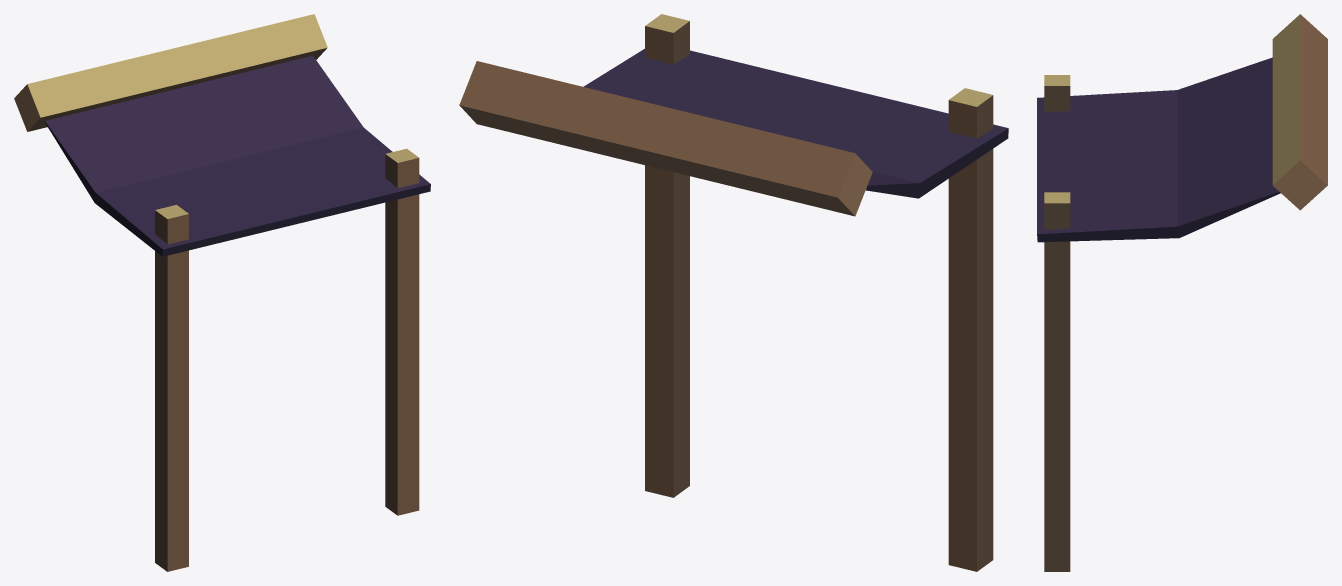
Rendered from TB_D_Bd_Canopy_Leg_F.FBX.
3 renders of one model, left to right at view 1: azimuth 30°, elevation 25°; view 2: azimuth 150°, elevation 25°; view 3: azimuth 270°, elevation 25°, orthographic. The views are drawn at different scales.
Parts seen in each view (by area): view 1: TB_D_Bd_Canopy_Leg_F; view 2: TB_D_Bd_Canopy_Leg_F; view 3: TB_D_Bd_Canopy_Leg_F.
Part boxes in pixels (<box>): TB_D_Bd_Canopy_Leg_F: <box>14,14,430,571</box>; TB_D_Bd_Canopy_Leg_F: <box>459,14,1008,571</box>; TB_D_Bd_Canopy_Leg_F: <box>1037,14,1327,571</box>.
Size of the model in its own units: 1.88 by 2.52 by 1.58.
